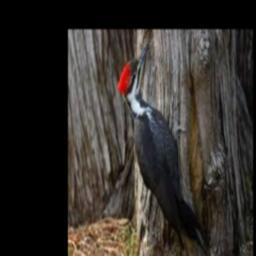Woodpecker: (116, 40, 207, 254)
